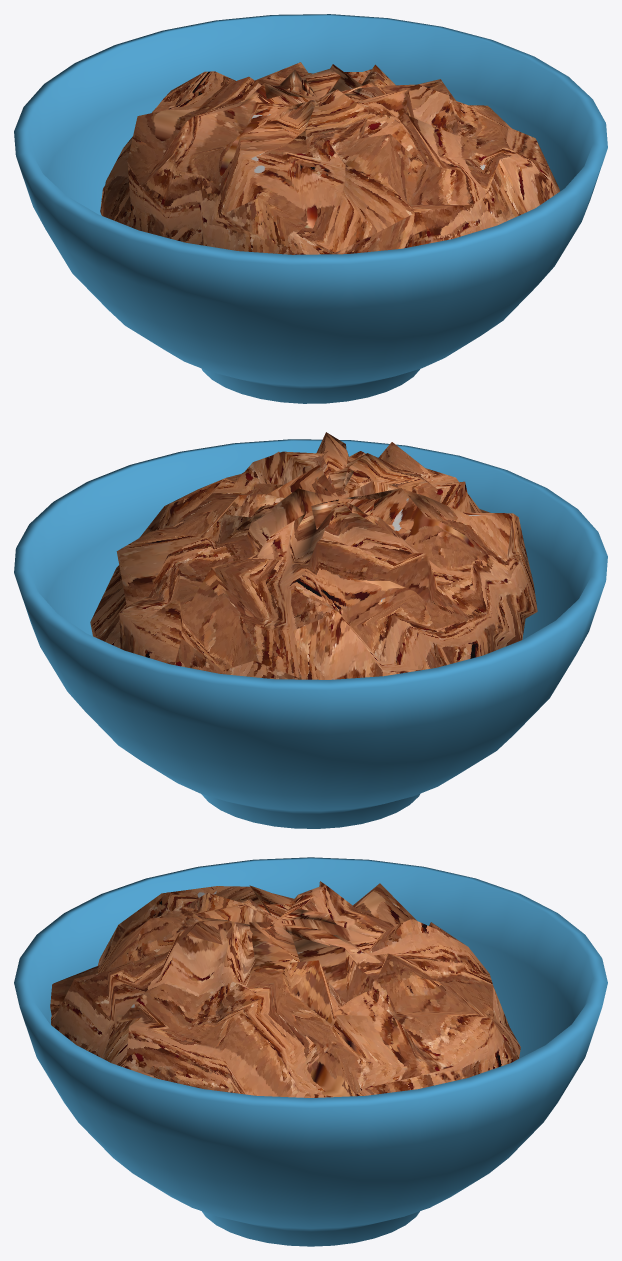
The model's file is Bowl of Flake.obj.
3 views of the same model, one above another, from view 1: azimuth 30°, elevation 25°; view 2: azimuth 150°, elevation 25°; view 3: azimuth 270°, elevation 25° (orthographic).
Parts seen in each view (by area): view 1: Bowl_of_Flakes; view 2: Bowl_of_Flakes; view 3: Bowl_of_Flakes.
Boxes of the visible parts, bbox=[...] form: Bowl_of_Flakes: bbox=[14, 14, 607, 403]; Bowl_of_Flakes: bbox=[14, 432, 607, 828]; Bowl_of_Flakes: bbox=[14, 857, 607, 1246].
Size of the model in its own units: 0.4424 by 0.2441 by 0.4424.
